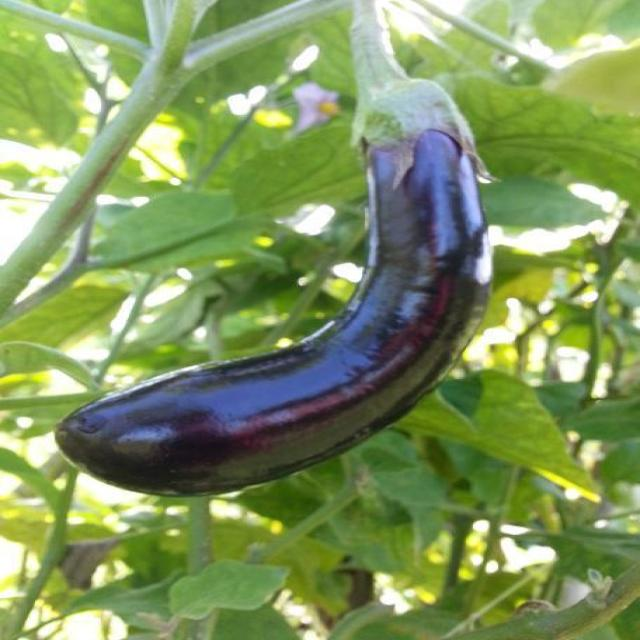eggplant: (48, 71, 504, 502)
